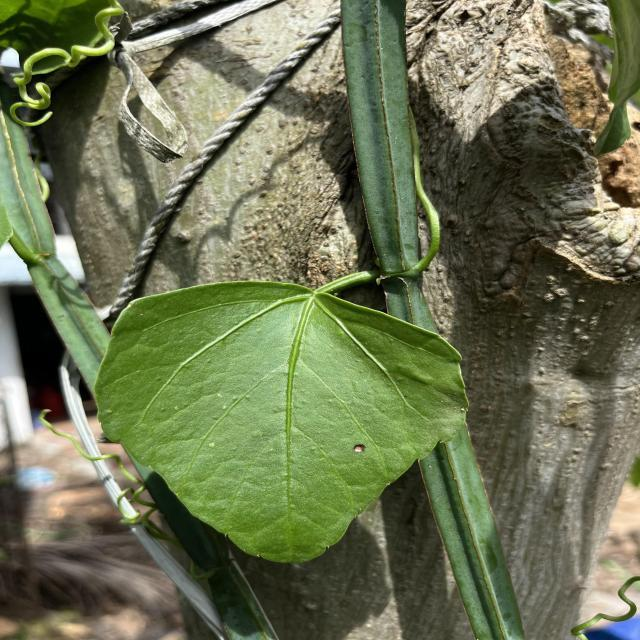Cissus quadrangularis: (92, 277, 470, 568)
